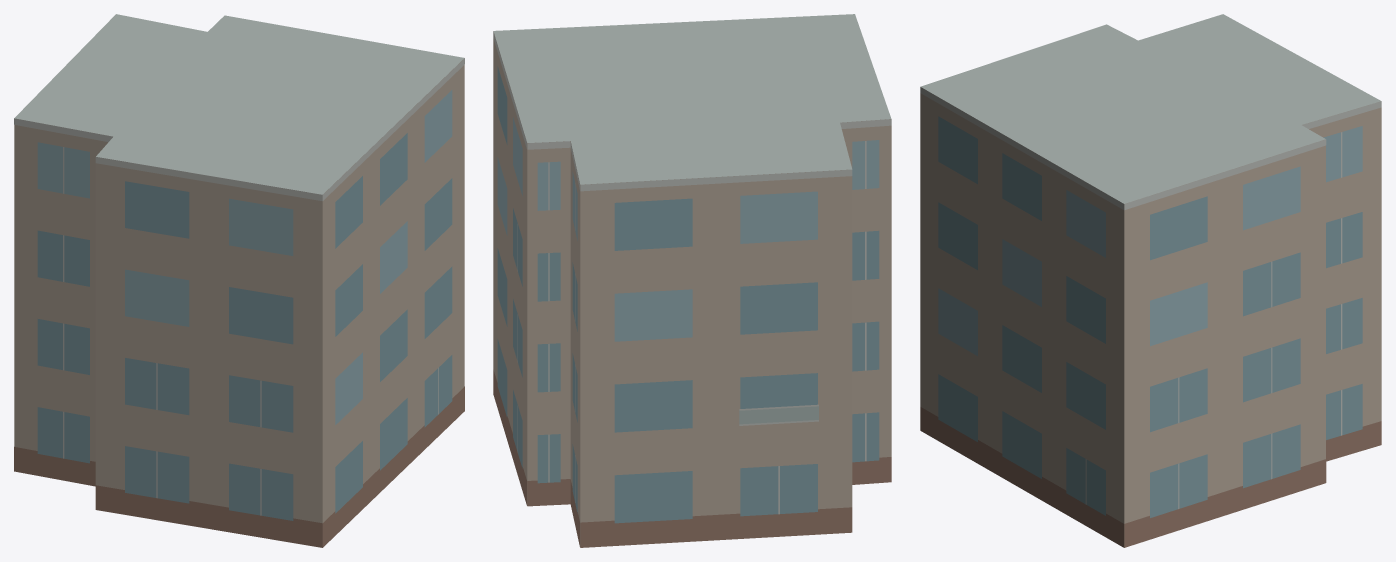
File: survey-upis-32604651.glb
The picture shows the model from 3 angles, left to right: view 1: azimuth 30°, elevation 25°; view 2: azimuth 150°, elevation 25°; view 3: azimuth 270°, elevation 25°; orthographic projection. The views are drawn at different scales.
Parts seen in each view (by area): view 1: survey-upis-32604651.tmp; view 2: survey-upis-32604651.tmp; view 3: survey-upis-32604651.tmp.
Boxes of the visible parts, box(x1,y1,x2,y2) form: survey-upis-32604651.tmp: box(14, 14, 464, 547); survey-upis-32604651.tmp: box(493, 14, 891, 547); survey-upis-32604651.tmp: box(920, 14, 1381, 547).
Size of the model in its own units: 15.77 by 13.3 by 16.18.
